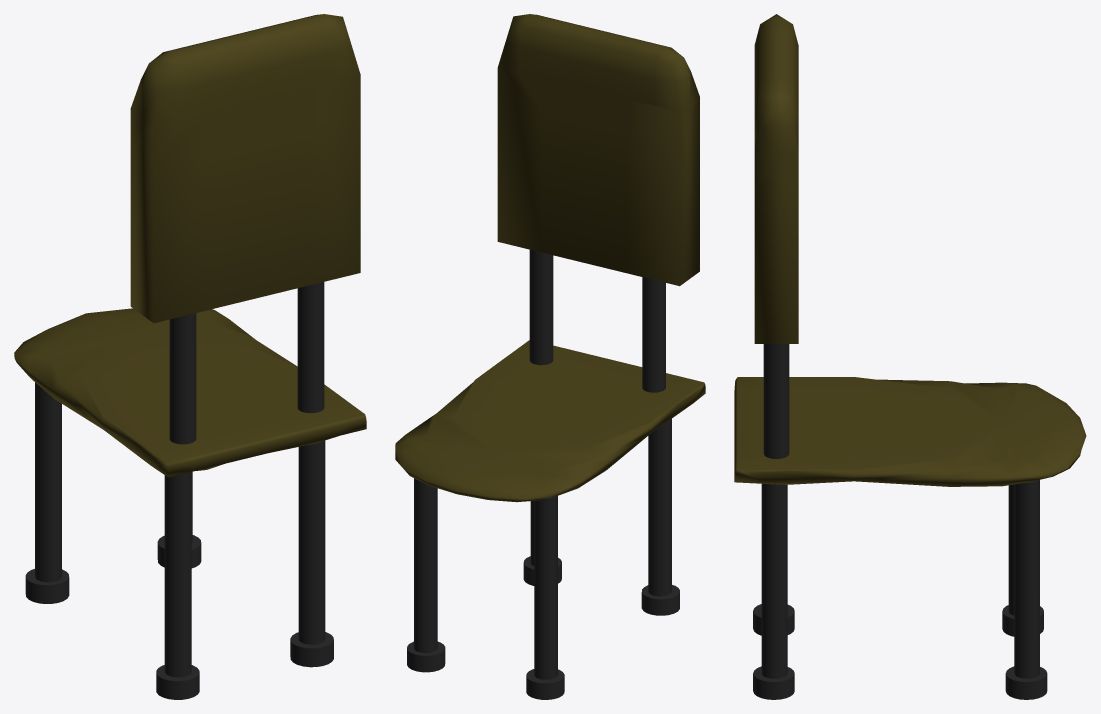
Rendered from gheee.fbx.
3 views of the same model, side by side, from view 1: azimuth 30°, elevation 25°; view 2: azimuth 150°, elevation 25°; view 3: azimuth 270°, elevation 25° (orthographic). The views are drawn at different scales.
Parts seen in each view (by area): view 1: ghe; view 2: ghe; view 3: ghe.
Boxes of the visible parts, x1,y1,x2,y2 form: ghe: (14, 14, 366, 699); ghe: (395, 14, 705, 699); ghe: (734, 14, 1086, 699).
Bounding box in the file's own units: 2.47 × 7.28 × 3.81.
